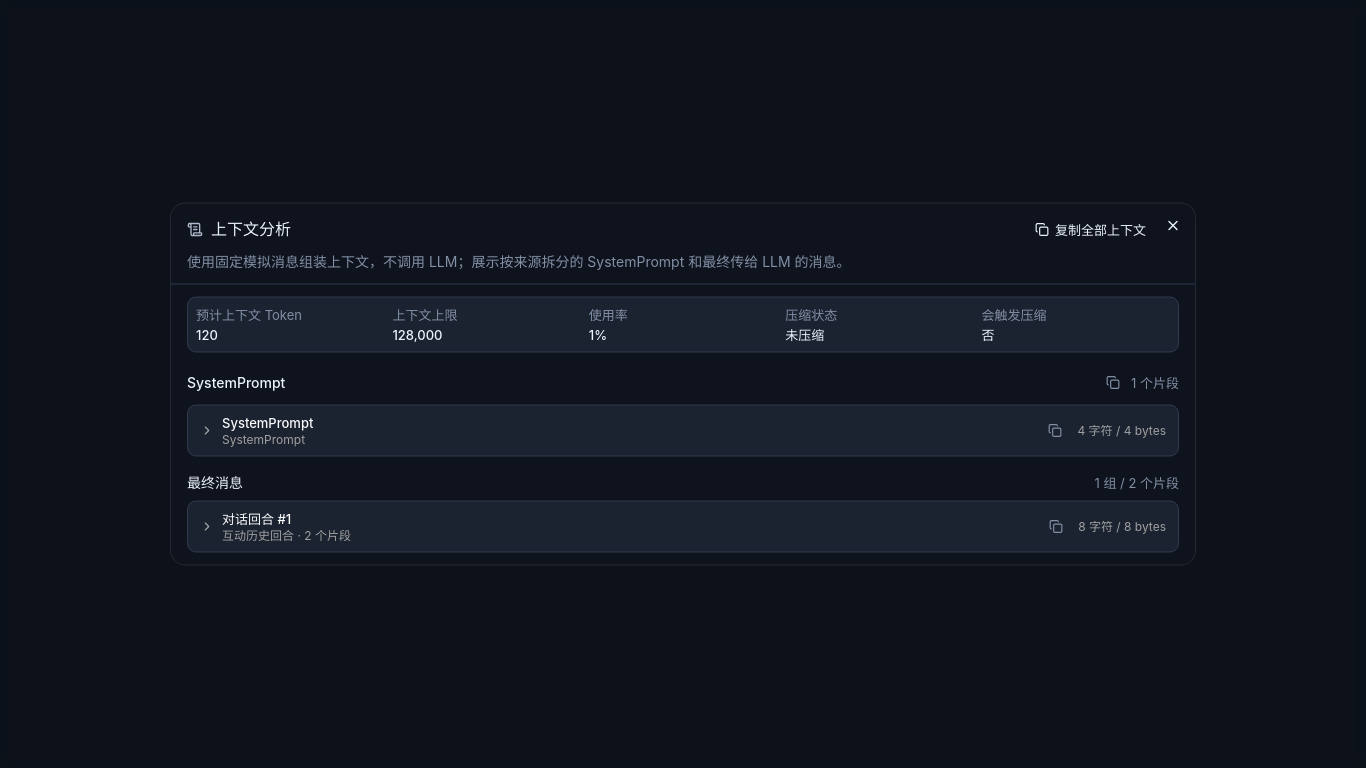
Test: ContextAnalysisDialog › expands inner parts by default when a multi-part message group is opened
Expected: the text "我要前进" is not shown
What coordinates should you click on to do the following:
click the button "对话回合 #1 互动历史回合 · 2 个片段"
I would click on:
 (257, 518)
Its box is [200,510,1034,544].
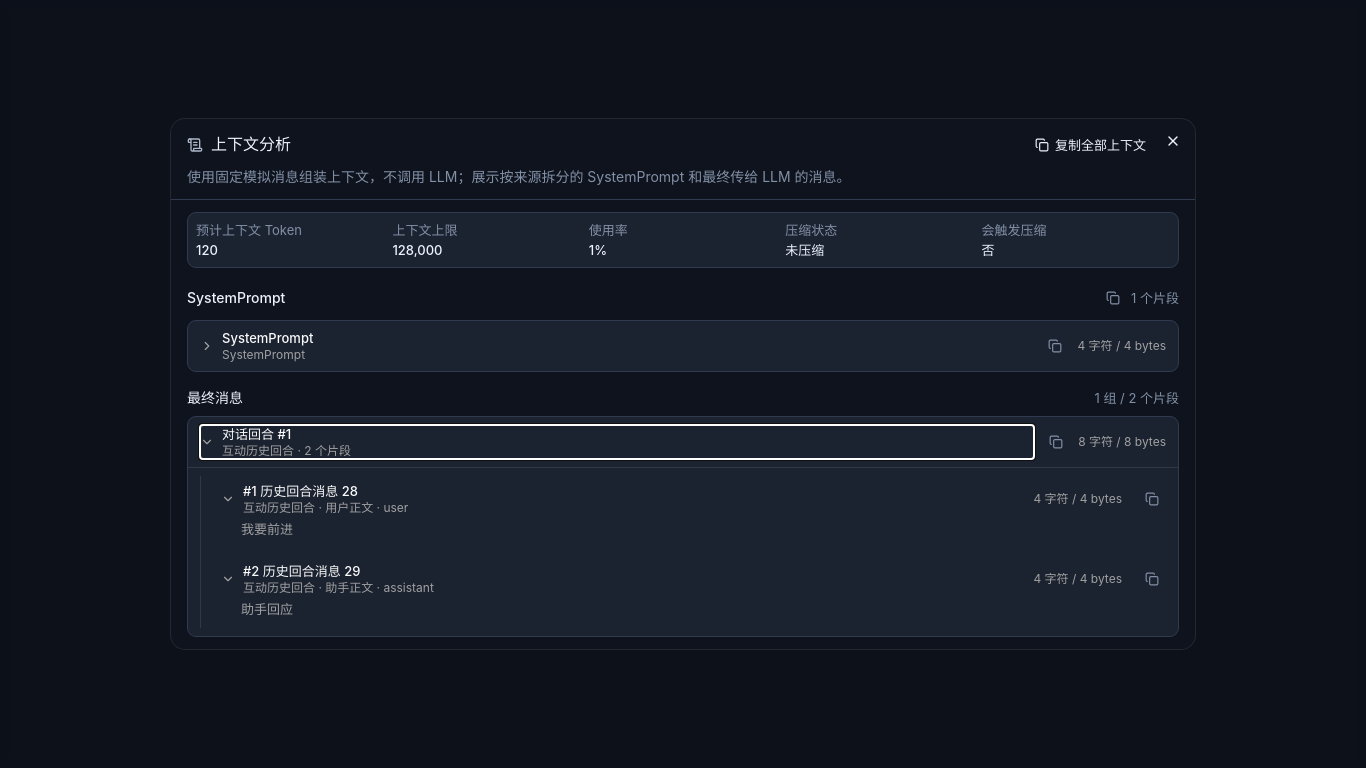
Now the text "我要前进" is shown, box [241,523,293,538]
Now the text "助手回应" is shown, box [241,603,293,618]
